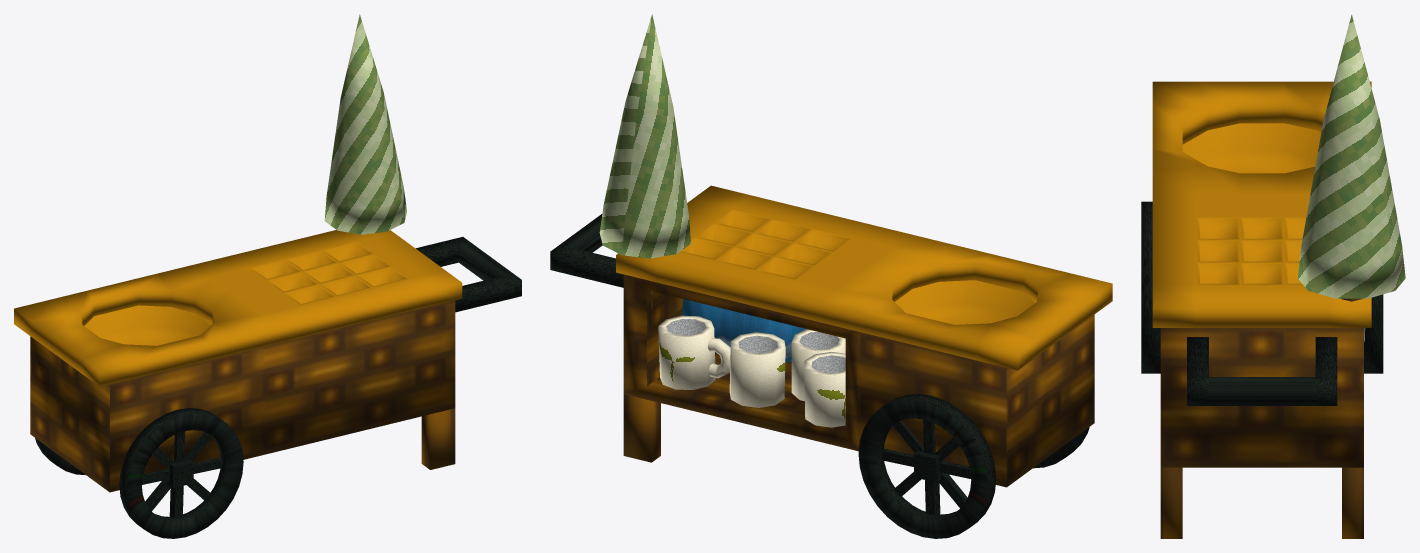
The model's file is carro.fbx.
The picture shows the model from 3 angles, left to right: view 1: azimuth 30°, elevation 25°; view 2: azimuth 150°, elevation 25°; view 3: azimuth 270°, elevation 25°; orthographic projection. The views are drawn at different scales.
Parts seen in each view (by area): view 1: carro, ruedas; view 2: carro, ruedas, mugs, mugs.001, mugs.002, garrafa, mugs.003; view 3: carro, ruedas.
Part boxes in pixels (x1,y1,x2,y2): carro: (14, 14, 521, 492); ruedas: (35, 408, 243, 538); carro: (550, 14, 1112, 487); ruedas: (858, 394, 1089, 538); mugs: (658, 315, 730, 389); mugs.001: (729, 332, 785, 407); mugs.002: (804, 352, 845, 427); garrafa: (681, 299, 806, 362); mugs.003: (791, 329, 845, 401); carro: (1152, 14, 1405, 538); ruedas: (1141, 201, 1383, 373).
Size of the model in its own units: 633 by 556 by 260.
Materials: 10 (7 with a texture image).
